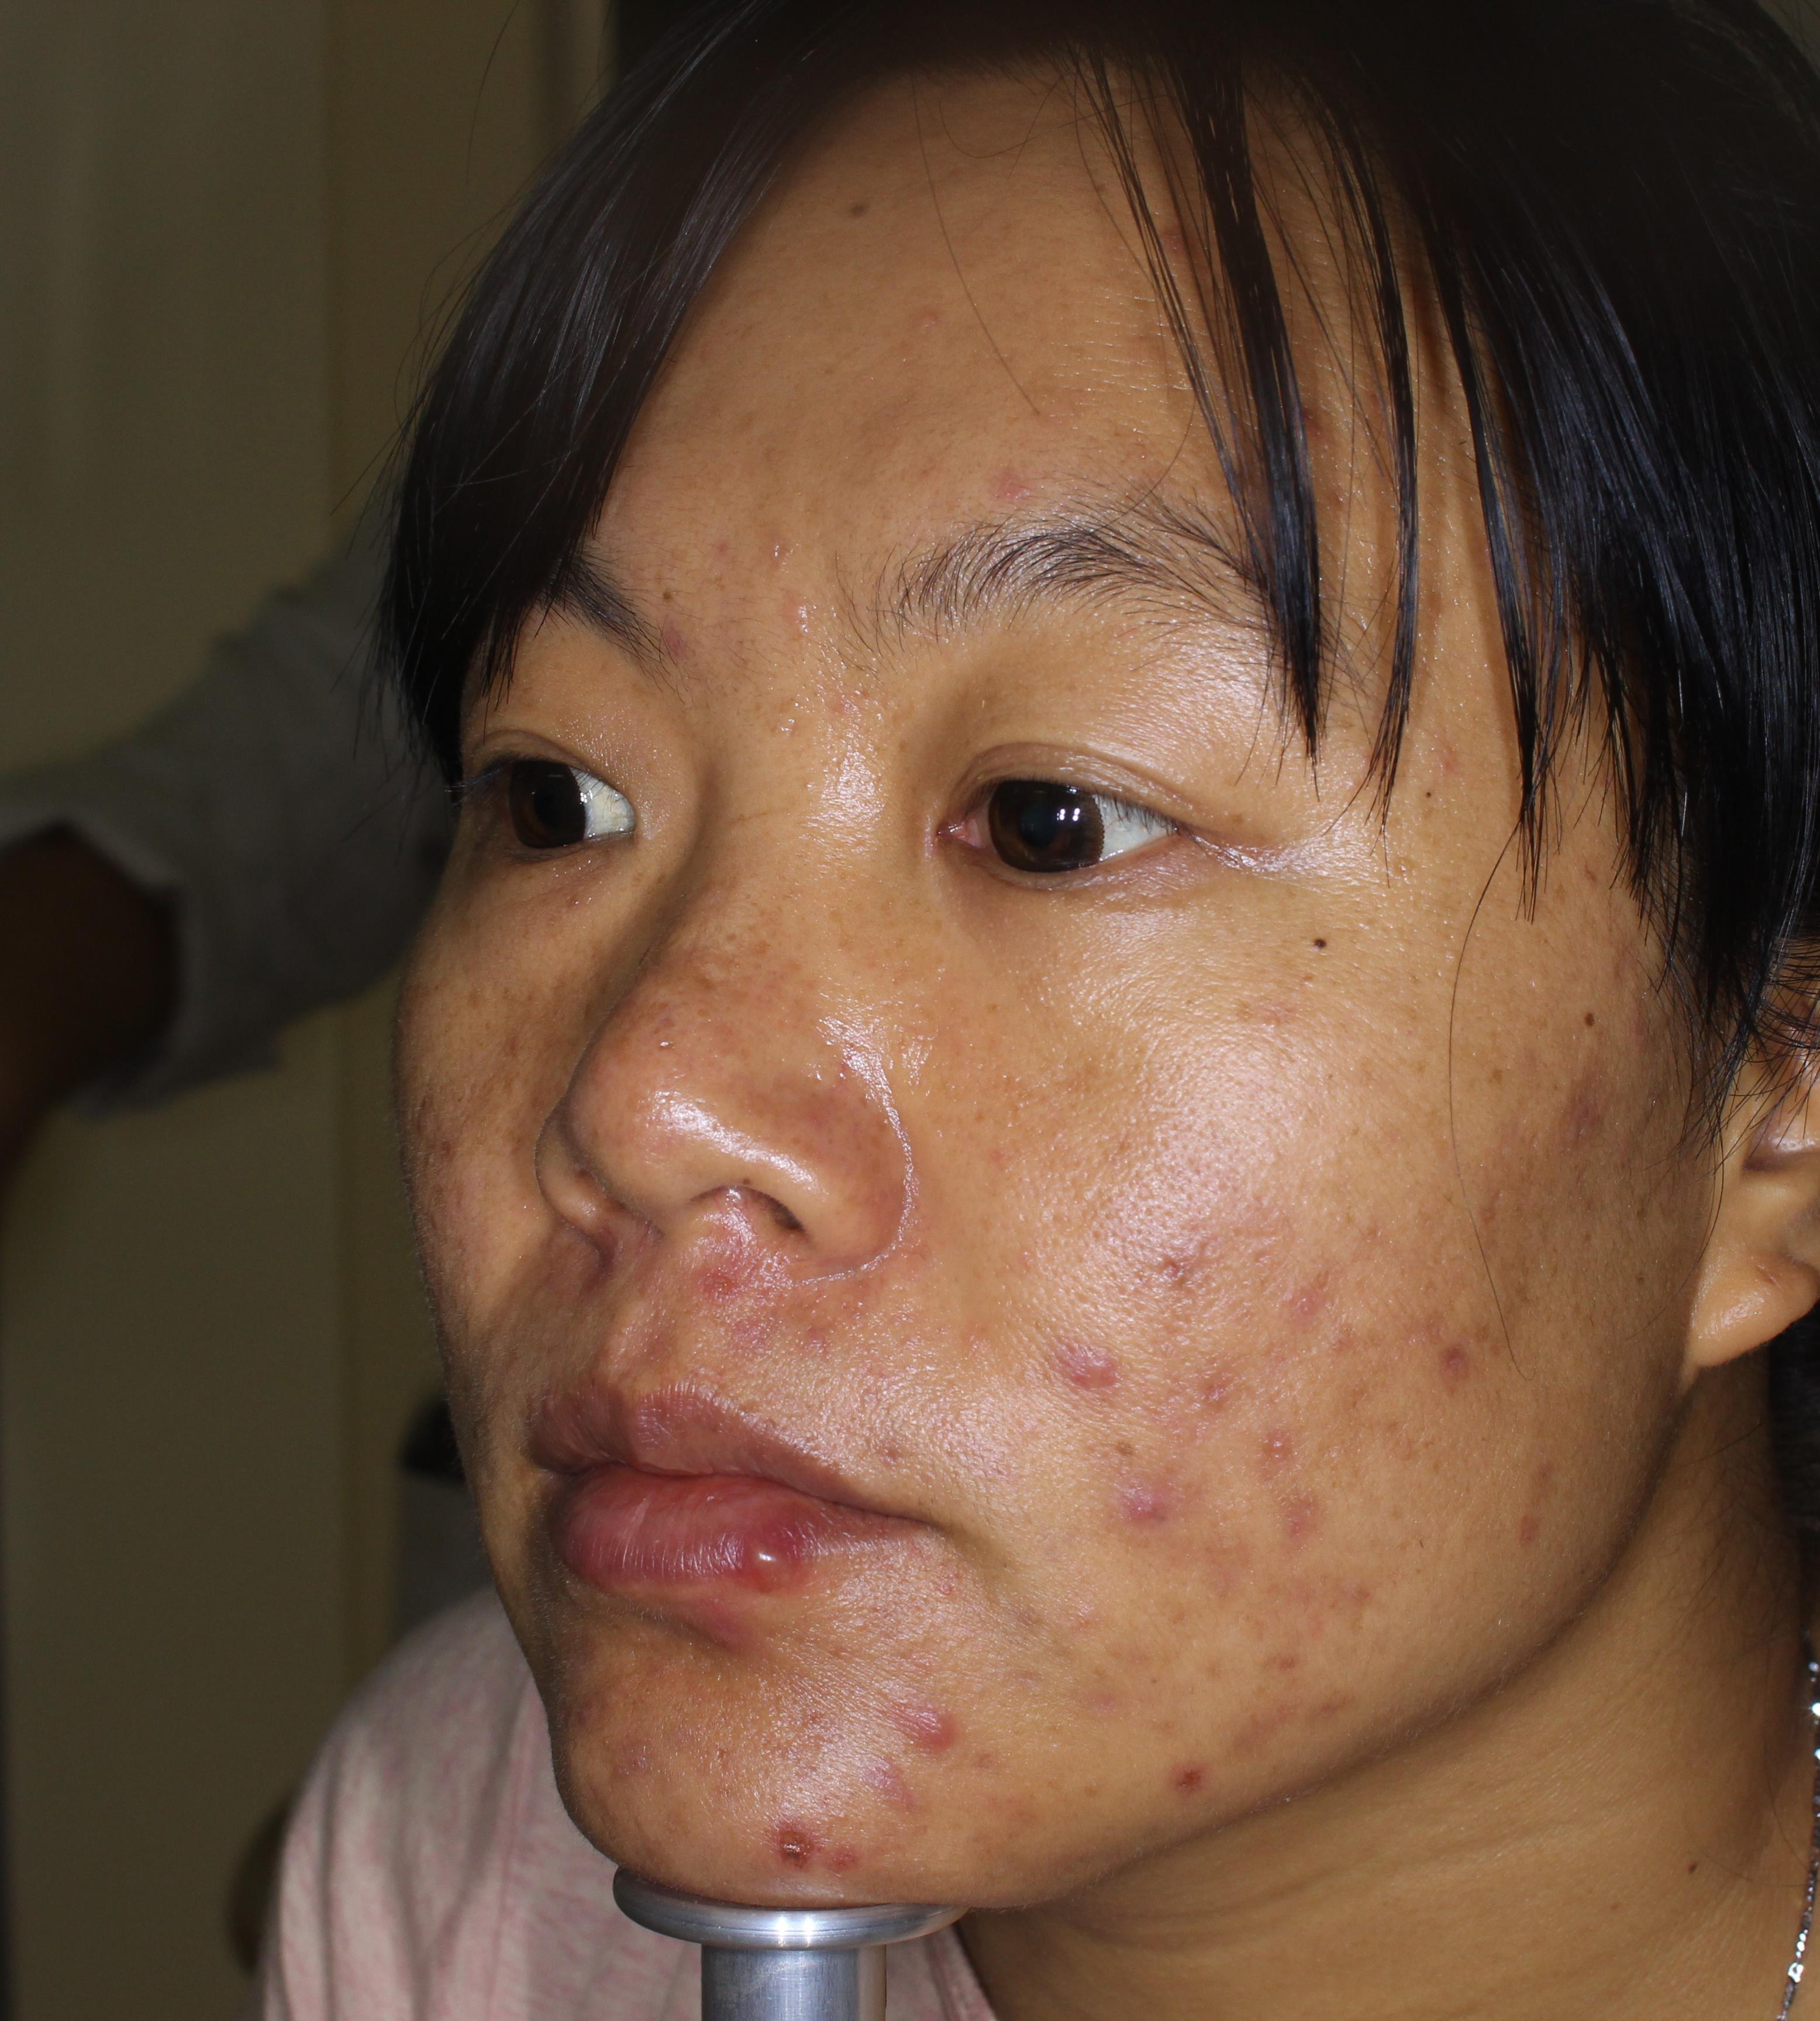fore: (740, 1777, 875, 1889), (1476, 1459, 1574, 1557), (892, 1679, 987, 1773), (1279, 1670, 1369, 1759), (1144, 1199, 1219, 1298), (1042, 1320, 1131, 1401), (1279, 1482, 1360, 1563), (1404, 1320, 1484, 1401), (1077, 1487, 1193, 1540), (1152, 1733, 1219, 1817), (1260, 1410, 1314, 1464)
